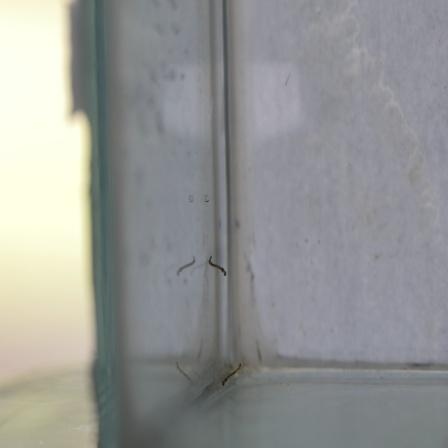Jentik-Nyamuk: (218, 358, 246, 390), (204, 252, 232, 282)
